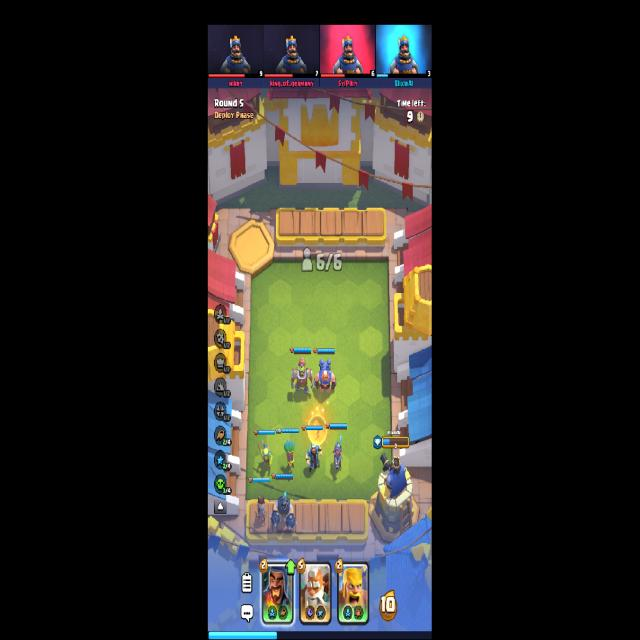card_barbarian: (338, 560, 368, 625)
card_monk: (300, 560, 332, 624)
card_wizard: (262, 562, 294, 626)
dart_goblin: (284, 440, 296, 472)
electro_giant: (313, 359, 336, 393)
goblin_machine: (290, 357, 314, 395)
mega_knight: (268, 492, 298, 534)
musketeer: (333, 436, 344, 471)
princess: (255, 496, 268, 524)
spear_goblin: (258, 443, 274, 468)
wizard: (306, 442, 322, 473)
